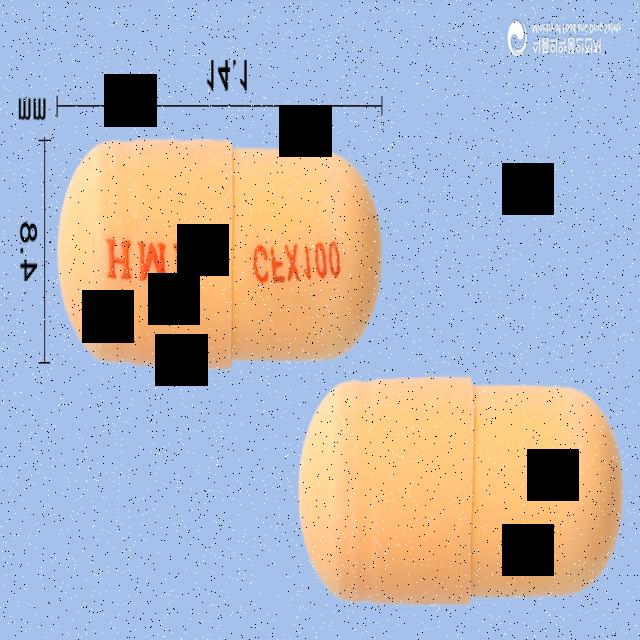Cefix Cap: (54, 134, 386, 374), (296, 370, 627, 607)
